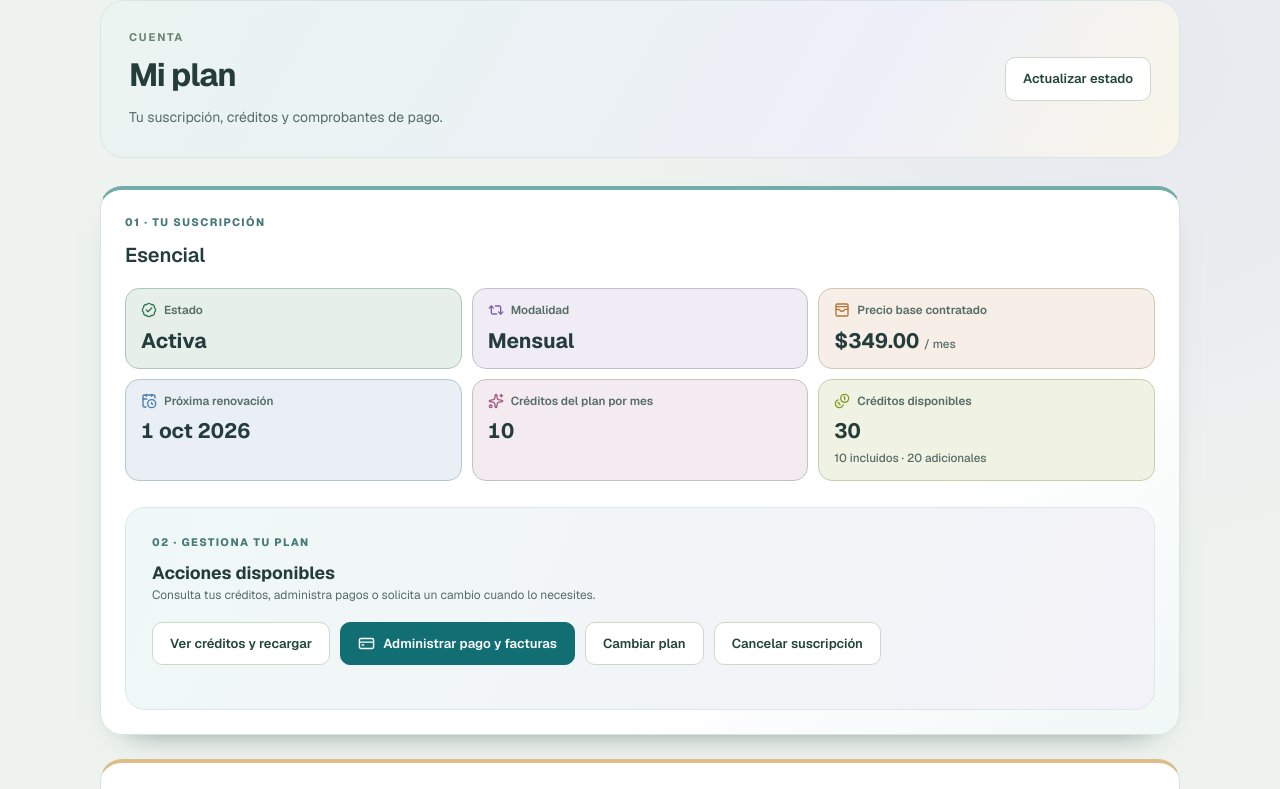
Test case: keeping the subscription exits cancellation without a billing request
Check: the heading "Esencial" is shown, box [125,242,205,268]
Click the button "Cancelar suscripción".
click(797, 643)  # box [714,622,881,665]
(page scrolled)
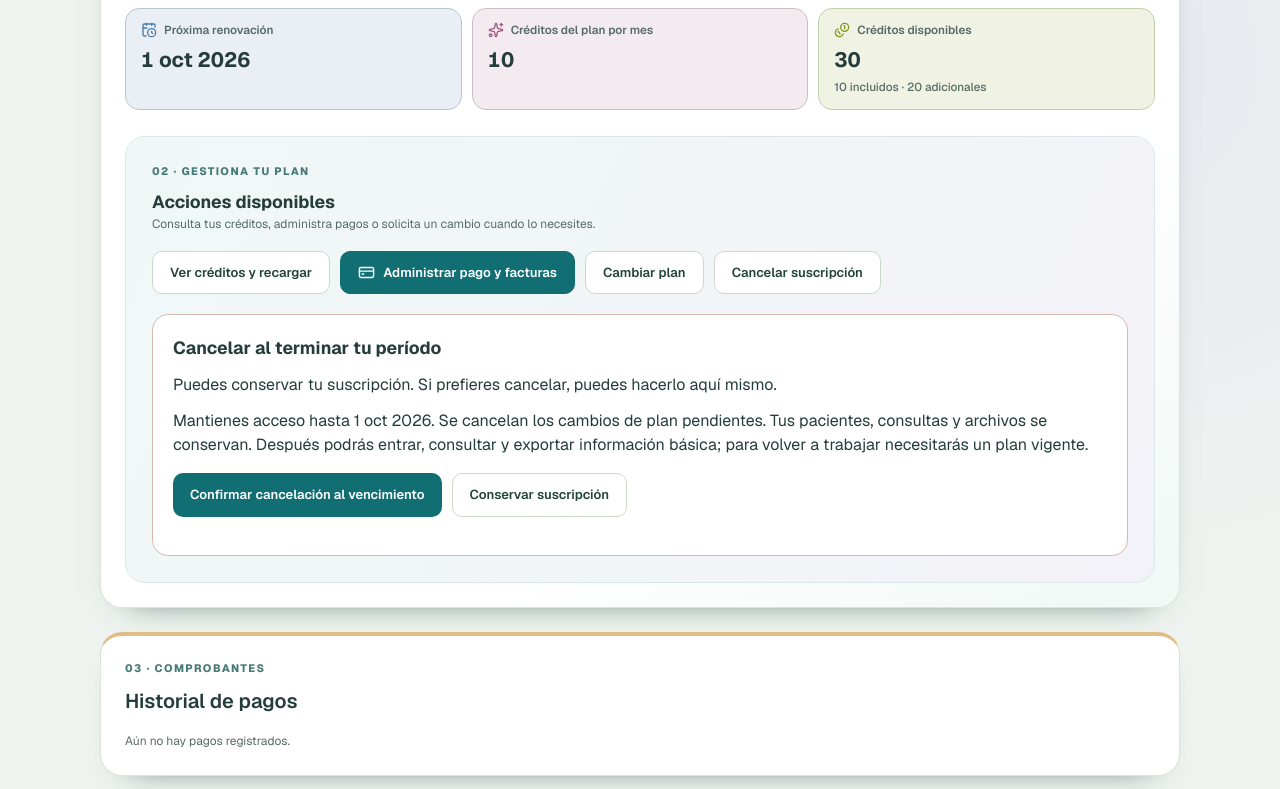
Click the button "Conservar suscripción".
click(539, 495)  # box [452,474,627,517]
(page scrolled)
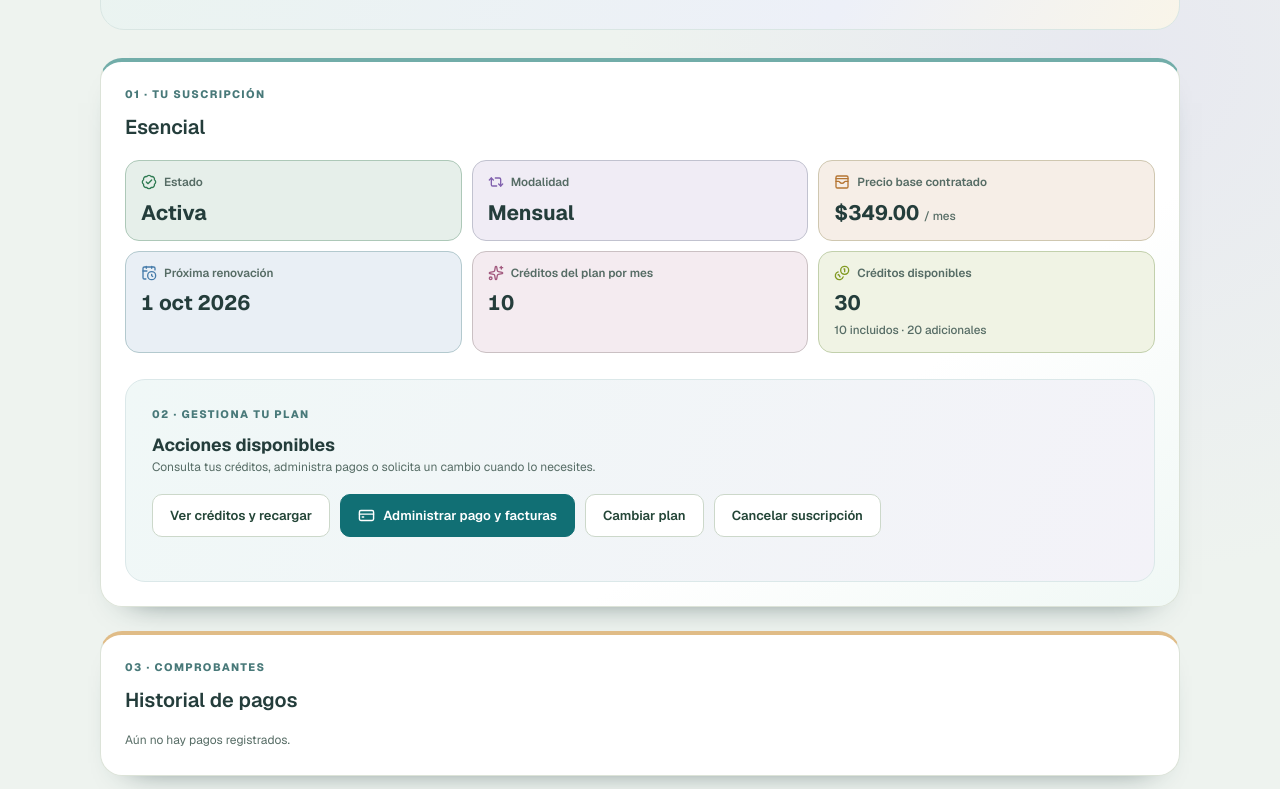
Check: the button "Confirmar cancelación al vencimiento" is gone
